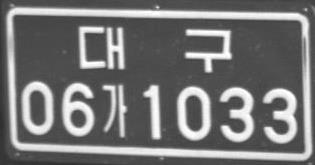0: (175, 84, 211, 141), (20, 79, 54, 135)
1: (138, 83, 169, 140)
3: (219, 87, 255, 143), (262, 87, 298, 143)
6: (61, 81, 96, 137)
가: (101, 84, 128, 137)
대구_D: (78, 24, 232, 73)
